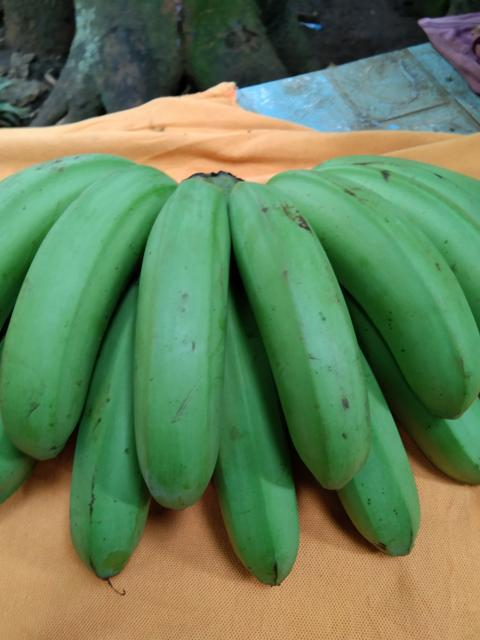freshunripe: (0, 152, 167, 462), (123, 169, 238, 516), (205, 320, 305, 592), (63, 350, 148, 589), (336, 409, 428, 569)
